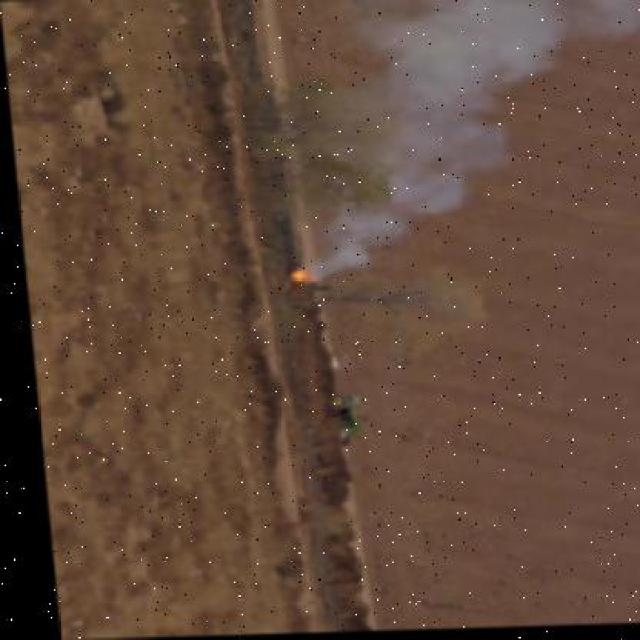fire: (286, 261, 320, 293)
